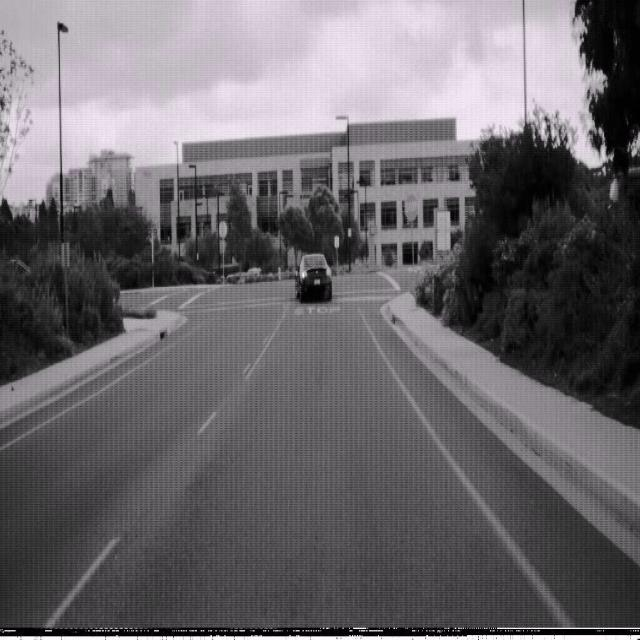stop_sign: (404, 191, 418, 222)
